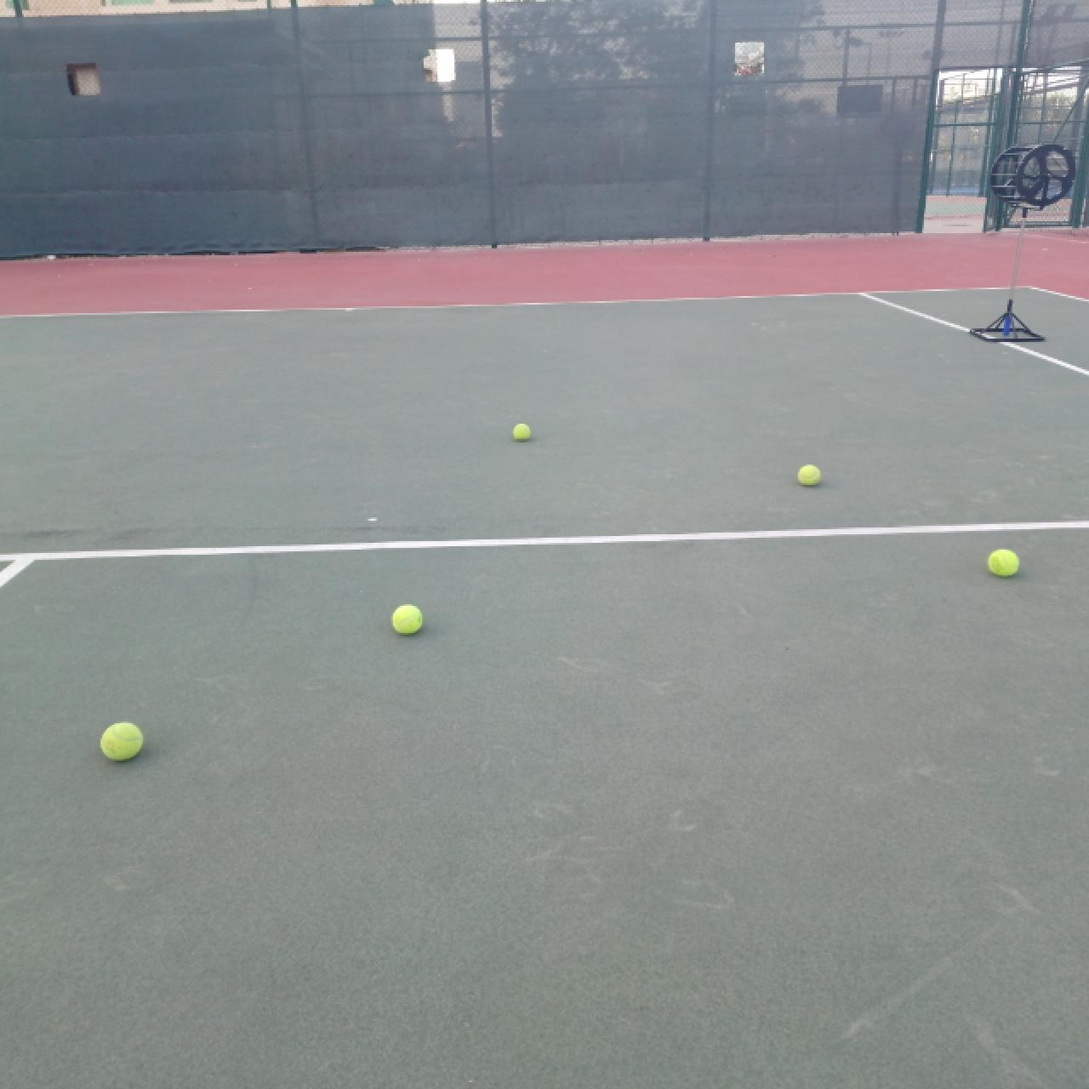tennis-ball: (99, 720, 144, 764), (390, 602, 424, 637), (986, 547, 1021, 578), (797, 463, 822, 487), (512, 422, 532, 443)
